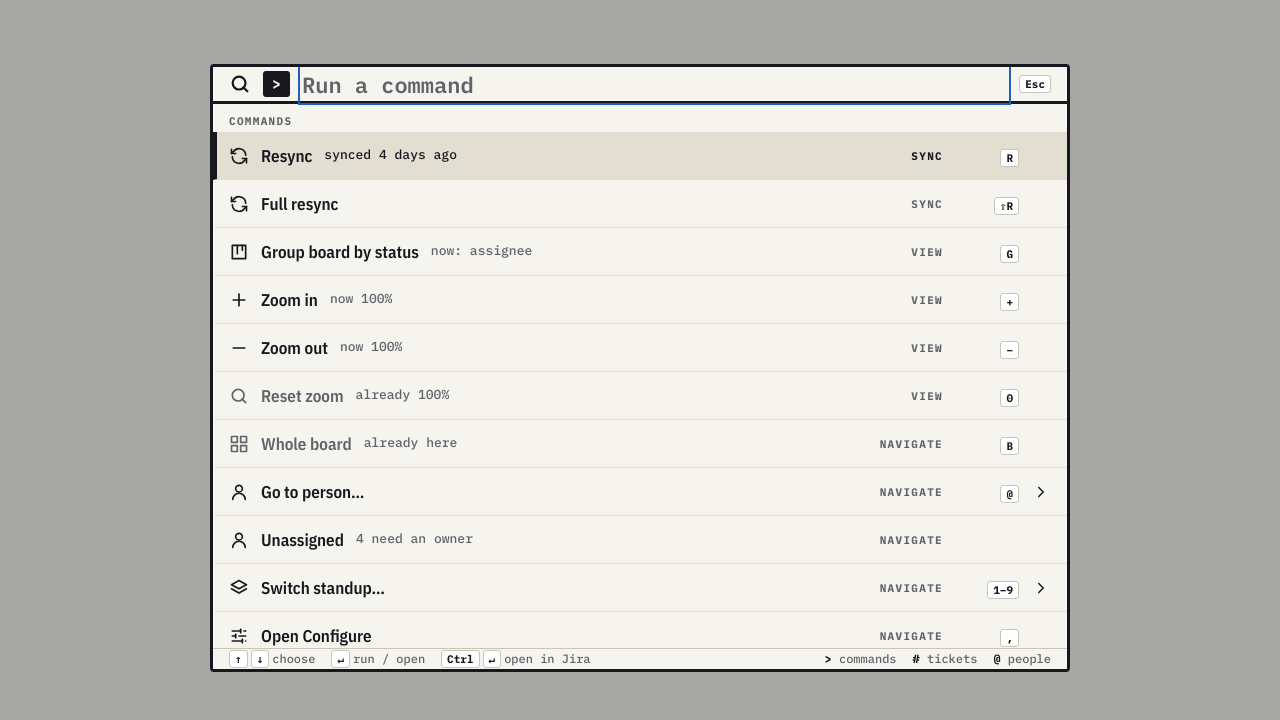
Scenario: nested commands and Esc › → enters a nested command like ↵
Type "text size" into the dropdown at (655, 84), box 302,67 -> 1007,101
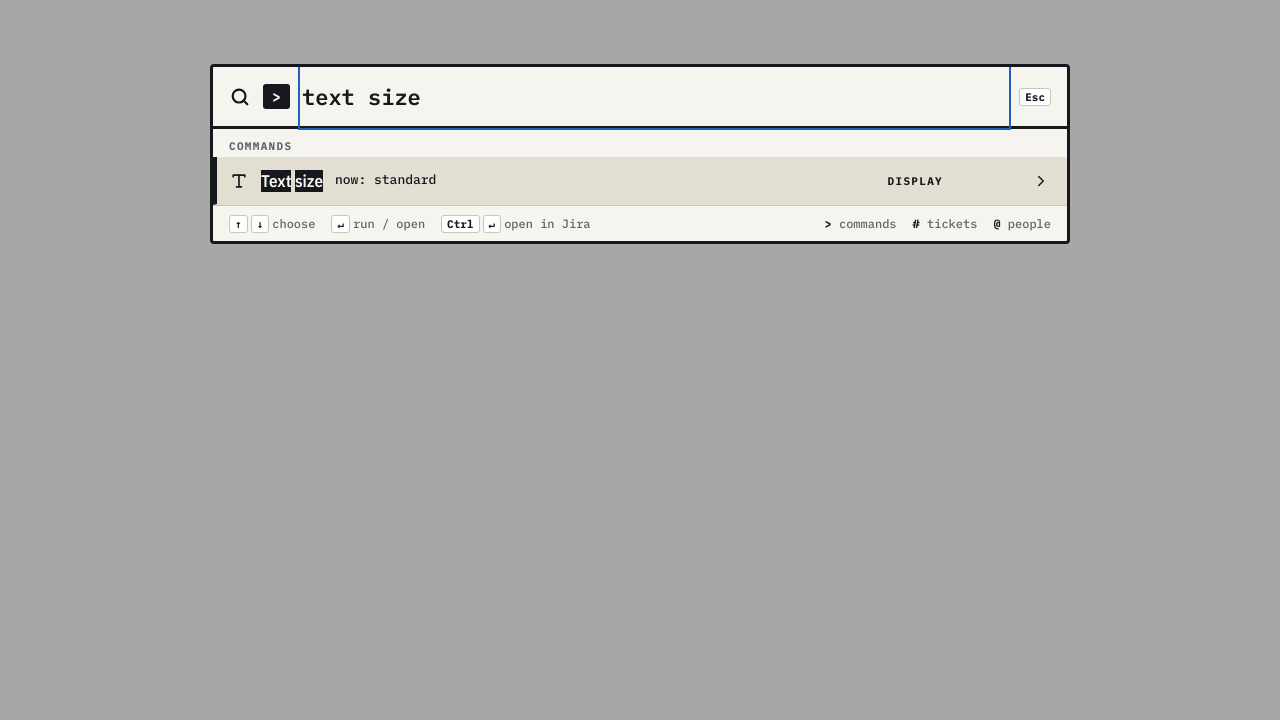
Press ArrowRight in the dropdown, box 302,67 -> 1007,126
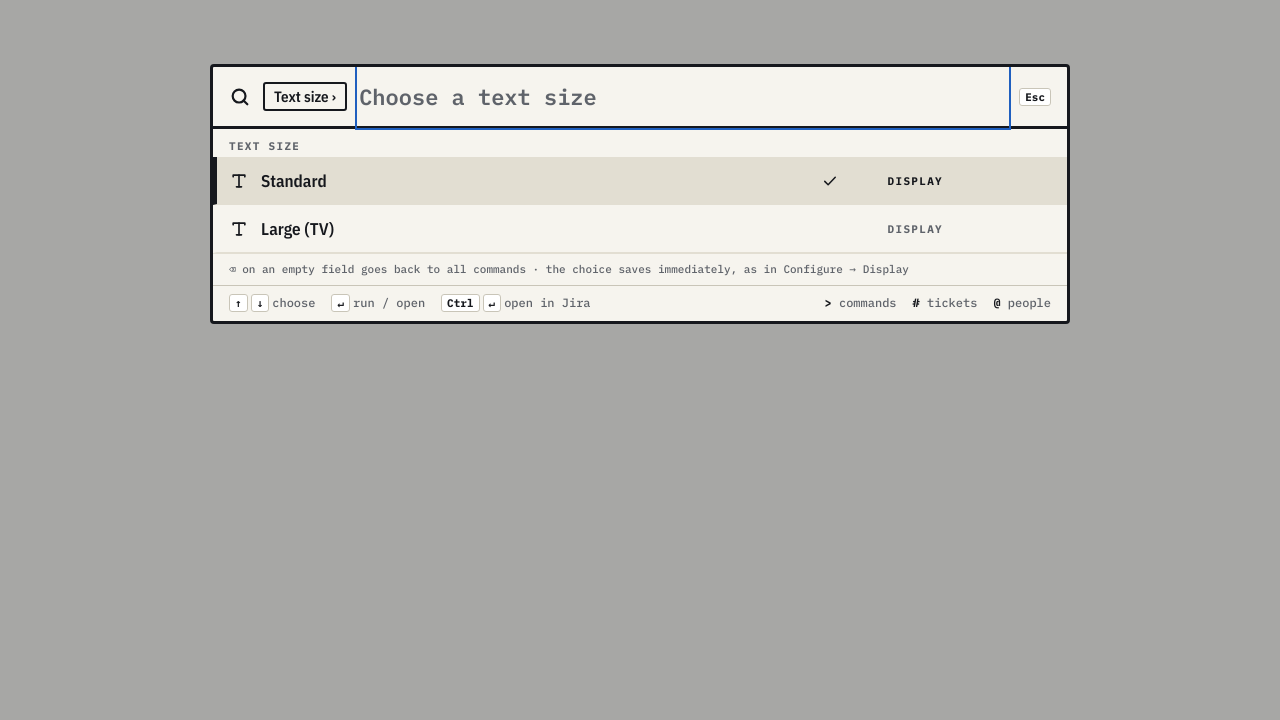
Now the element with test id "pal-crumb" shows "Text size", box 274,87 -> 329,106
